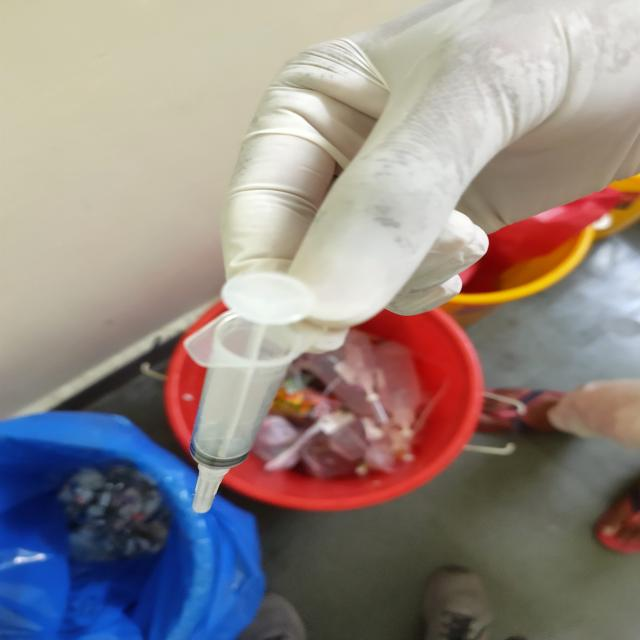B3: (178, 277, 318, 510)
